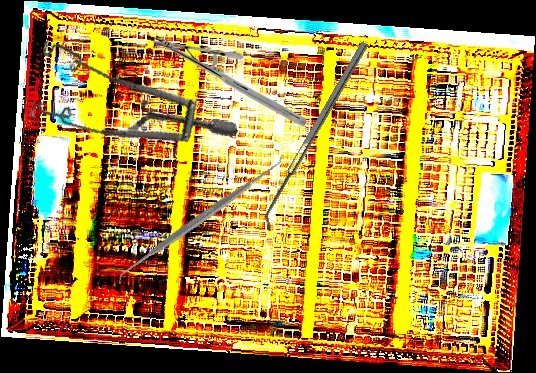Needle Holder: (153, 35, 306, 127)
Spatula Surgical: (109, 152, 290, 288), (256, 41, 376, 232)
Speculum: (14, 3, 239, 180)
